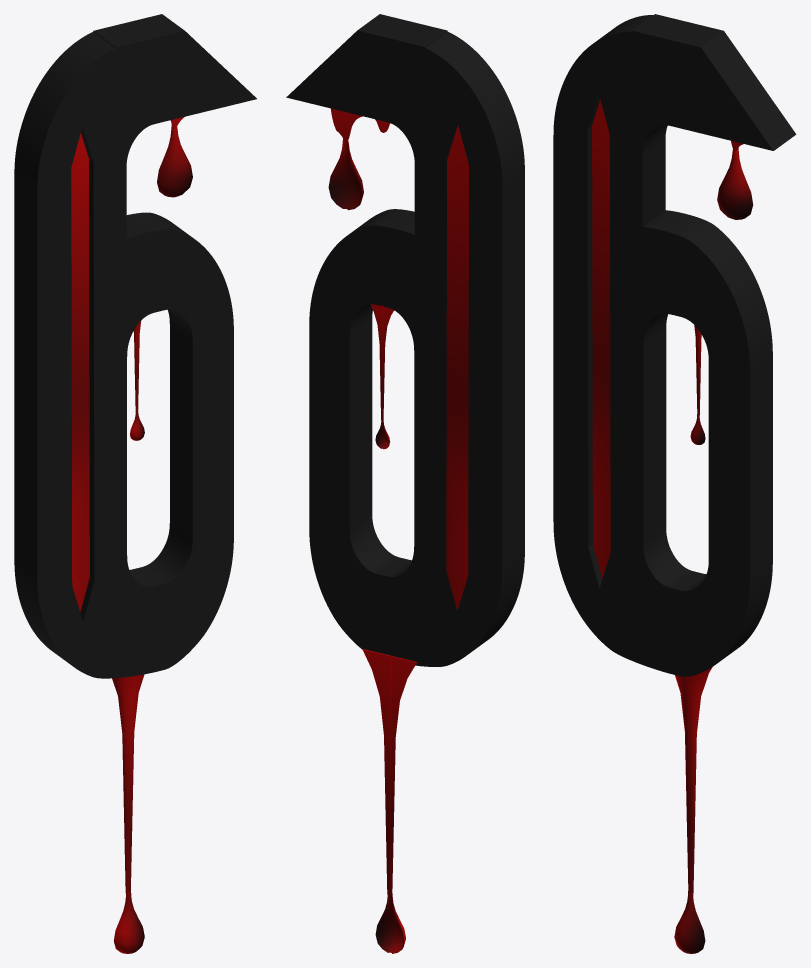
The picture shows the model from 3 angles, left to right: view 1: azimuth 30°, elevation 25°; view 2: azimuth 150°, elevation 25°; view 3: azimuth 330°, elevation 25°; orthographic projection.
Visible parts, largest first — view 1: 6, 6_Element, Blood_129, Blood_127, Blood_126; view 2: 6, 6_Element, Blood_129, Blood_127, Blood_126; view 3: 6, 6_Element, Blood_129, Blood_127, Blood_126.
Boxes of the visible parts, x1,y1,x2,y2 form: 6: (14, 14, 256, 678); 6_Element: (71, 133, 89, 611); Blood_129: (112, 674, 144, 953); Blood_127: (157, 117, 192, 197); Blood_126: (130, 321, 144, 440); 6: (286, 14, 524, 666); 6_Element: (446, 125, 468, 610); Blood_129: (362, 649, 417, 953); Blood_127: (328, 108, 390, 210); Blood_126: (370, 304, 393, 449); 6: (553, 14, 796, 676); 6_Element: (592, 100, 610, 578); Blood_129: (674, 667, 712, 953); Blood_127: (717, 141, 753, 219); Blood_126: (690, 325, 705, 444).
Size of the model in its own units: 27.83 by 112 by 5.16.
Materials: 2 (1 with a texture image).
